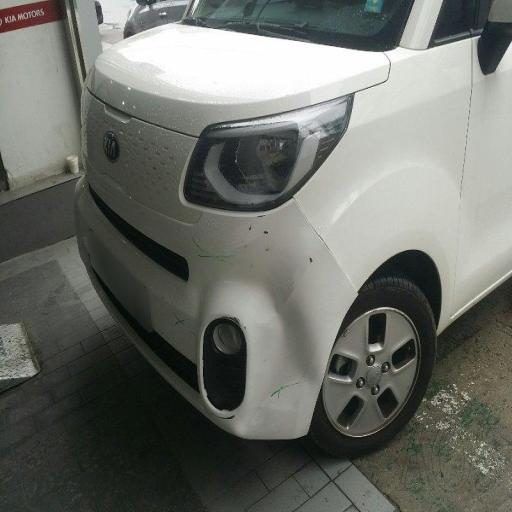dent: (173, 135, 341, 457)
